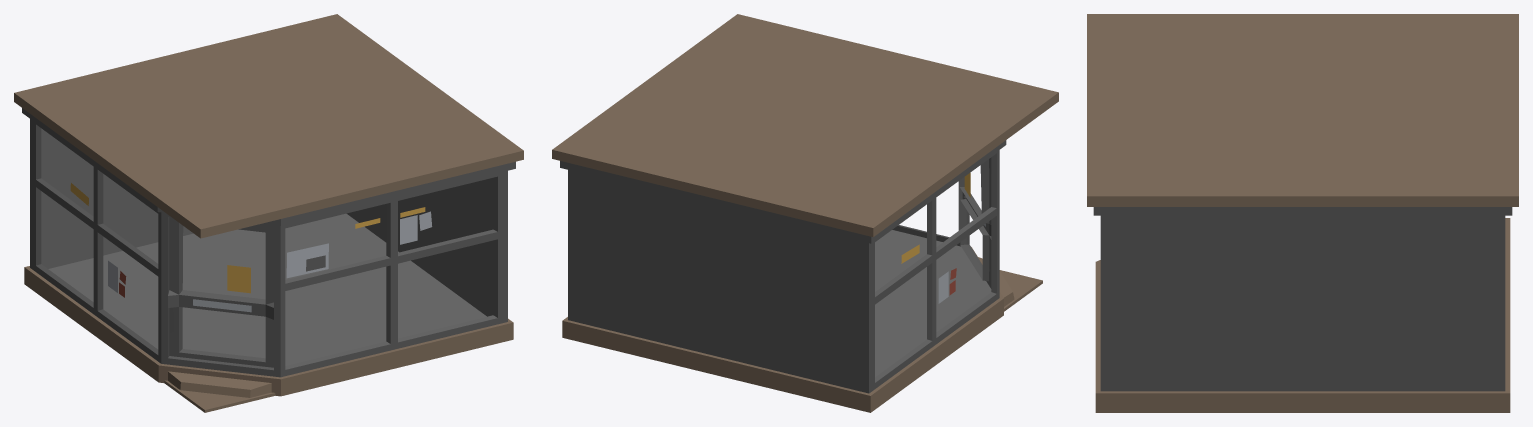
The model's file is SM_Bld_Shop_Corner_02.obj.
3 views of the same model, side by side, from view 1: azimuth 30°, elevation 25°; view 2: azimuth 150°, elevation 25°; view 3: azimuth 270°, elevation 25° (orthographic). The views are drawn at different scales.
Parts seen in each view (by area): view 1: SM_Bld_Shop_Corner_02_0; view 2: SM_Bld_Shop_Corner_02_0; view 3: SM_Bld_Shop_Corner_02_0.
Part boxes in pixels (left/top/right/bottom): SM_Bld_Shop_Corner_02_0: left=14, top=14, right=523, bottom=412; SM_Bld_Shop_Corner_02_0: left=552, top=14, right=1058, bottom=412; SM_Bld_Shop_Corner_02_0: left=1087, top=14, right=1518, bottom=412.
Size of the model in its own units: 5.33 by 3 by 5.33.
Materials: 1 (1 with a texture image).
